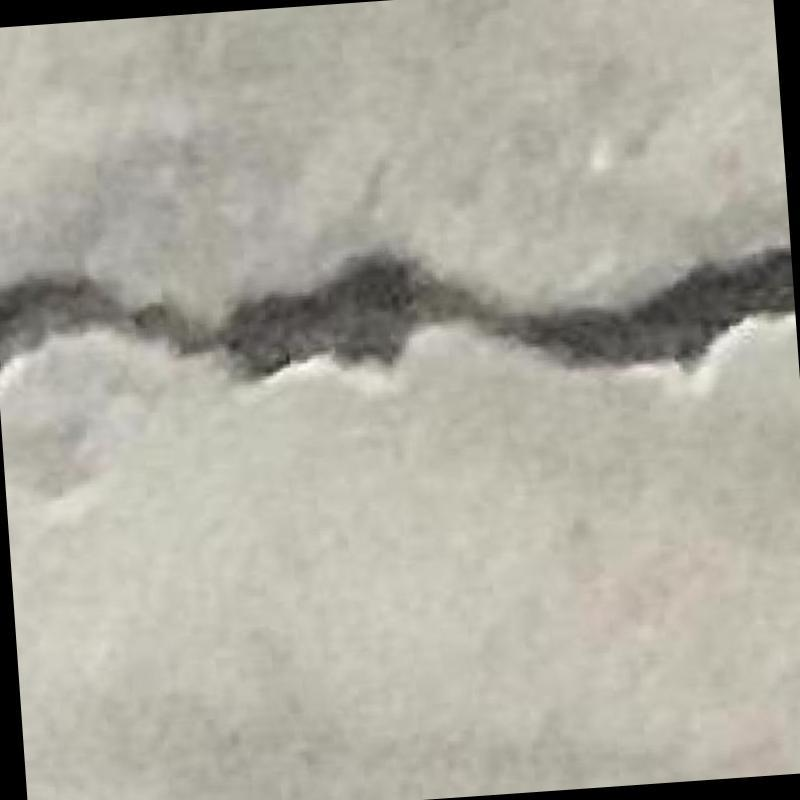pothole: (0, 248, 794, 377)
